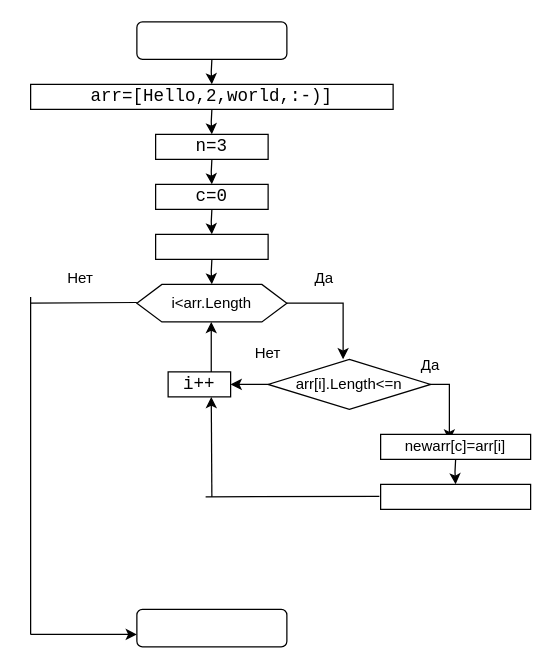
Some shapes in this 553 by 669 pixel diagram are drawn without their labels. Each missing label, with the centre of its shape:
"c++" belongs at pixel 455 496.
"i=0" belongs at pixel 211 246.
"Конец" belongs at pixel 211 627.
"Начало" belongs at pixel 211 40.
